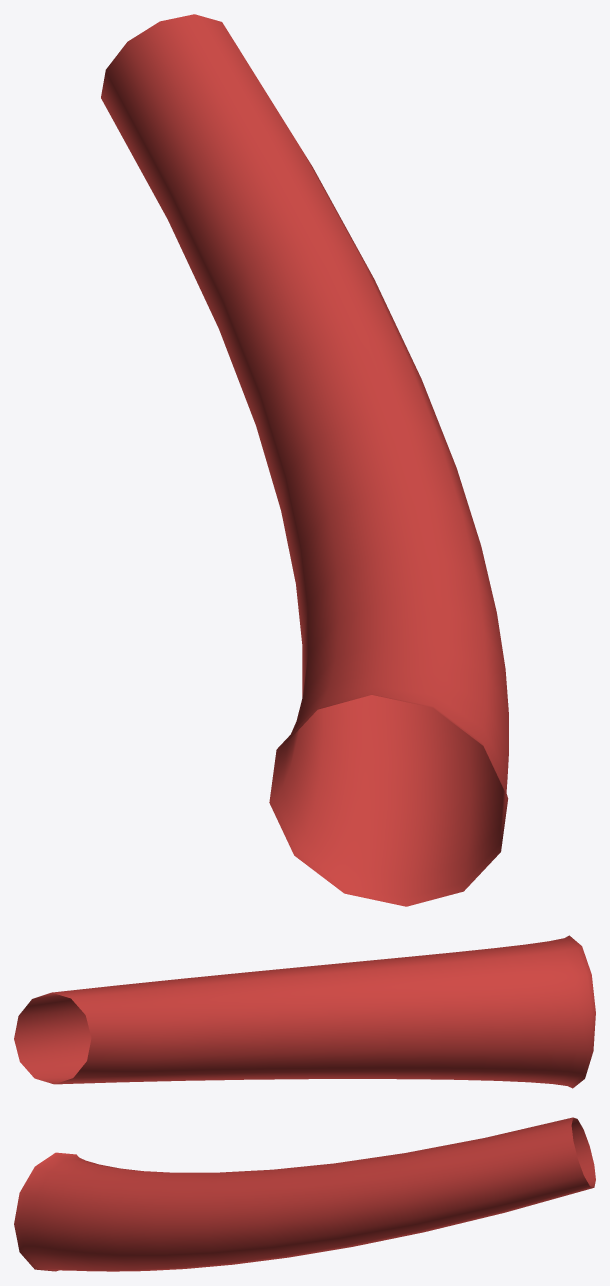
3 views of the same model, one above another, from view 1: azimuth 30°, elevation 25°; view 2: azimuth 150°, elevation 25°; view 3: azimuth 270°, elevation 25° (orthographic). The views are drawn at different scales.
Visible parts, largest first — view 1: 右侧肩胛下动脉; view 2: 右侧肩胛下动脉; view 3: 右侧肩胛下动脉.
Boxes of the visible parts, x1=… form: 右侧肩胛下动脉: x1=101, y1=14, x2=508, y2=906; 右侧肩胛下动脉: x1=14, y1=935, x2=595, y2=1088; 右侧肩胛下动脉: x1=14, y1=1117, x2=595, y2=1271.
Bounding box in the file's own units: 0.00925 × 0.00871 × 0.0208.
